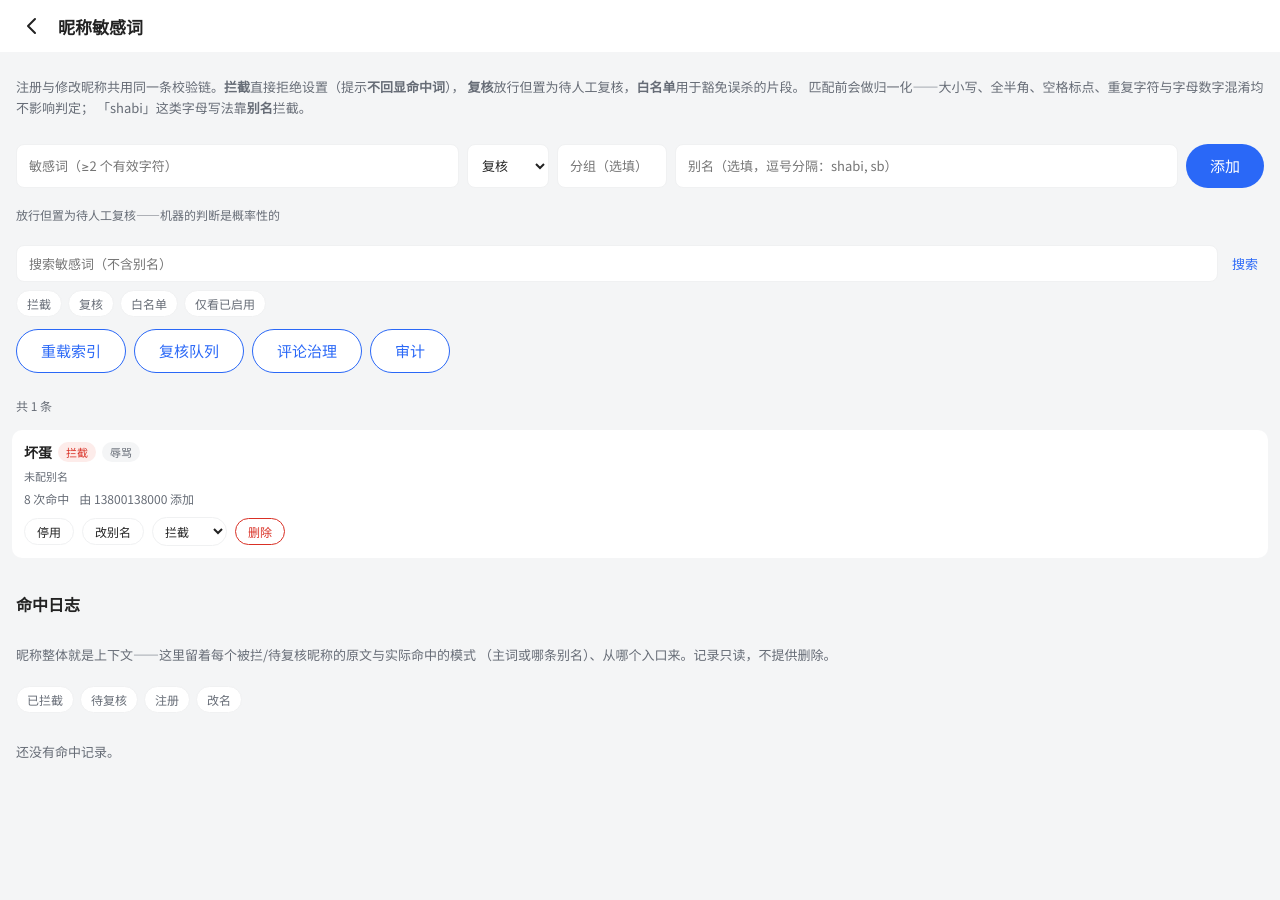
Scenario: views/AdminNicknameWords 新增与维护 › 新增成功：别名按逗号拆分、去重，就地插入并提示已生效
Type "广告哥" into the field named "敏感词" at (238, 166), box top-left (16, 144), bottom-right (459, 188)
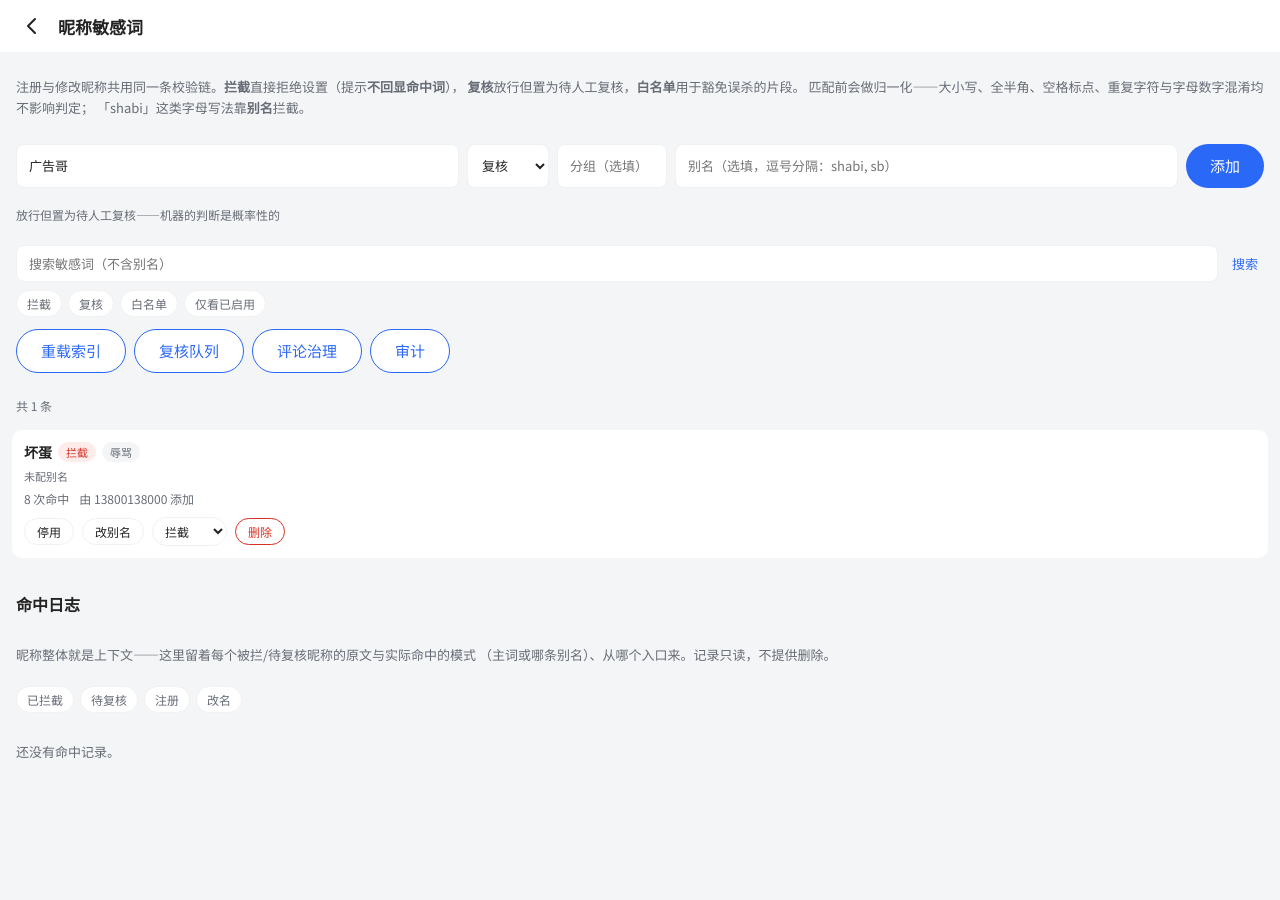
Select "复核" in the dropdown named "命中后的处理方式" at (508, 166), box top-left (467, 144), bottom-right (549, 188)
Type "广告引流" into the field named "分组" at (612, 166), box top-left (557, 144), bottom-right (667, 188)
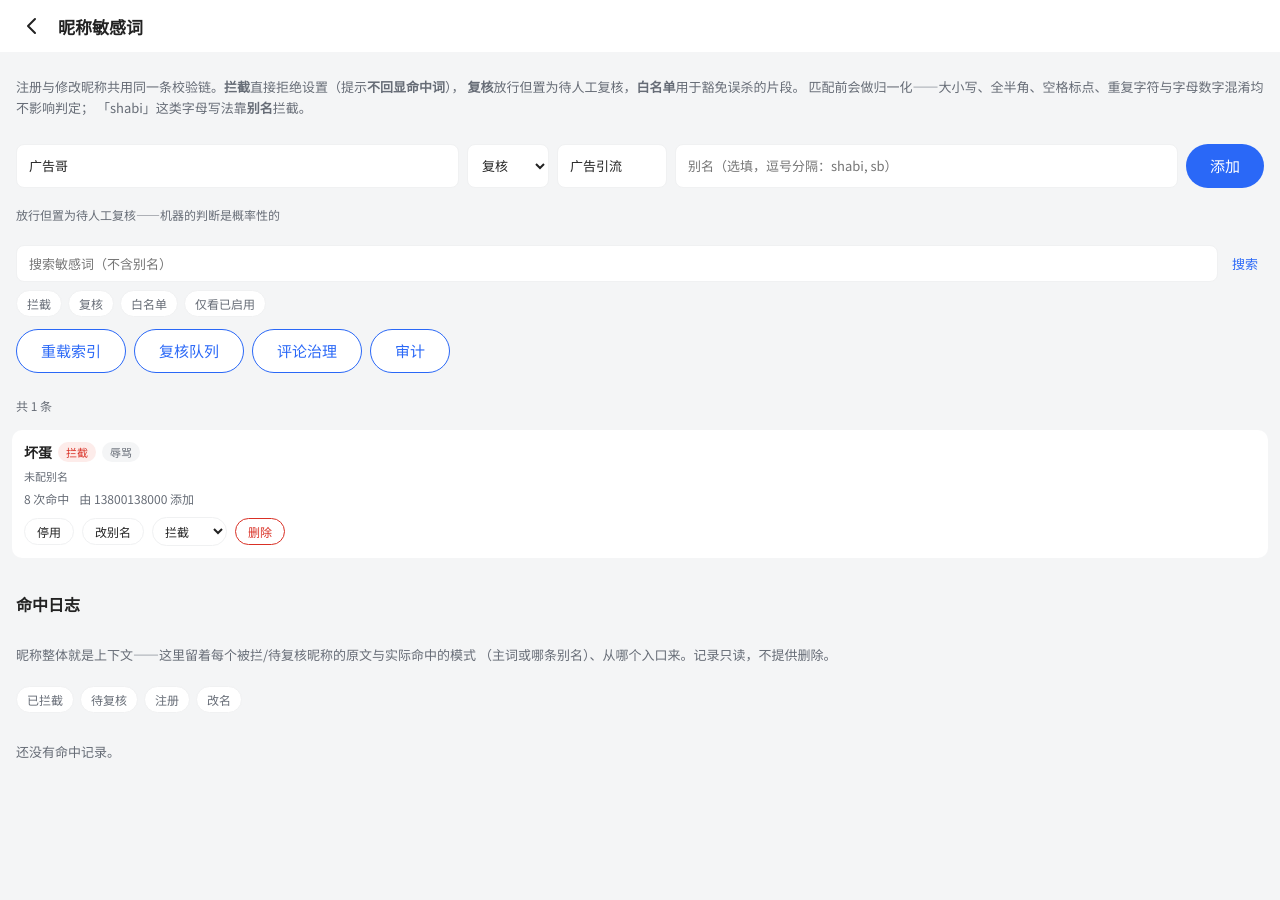
Type "adgg, adgg，广告哥哥" into the field named "别名" at (926, 166), box top-left (675, 144), bottom-right (1178, 188)
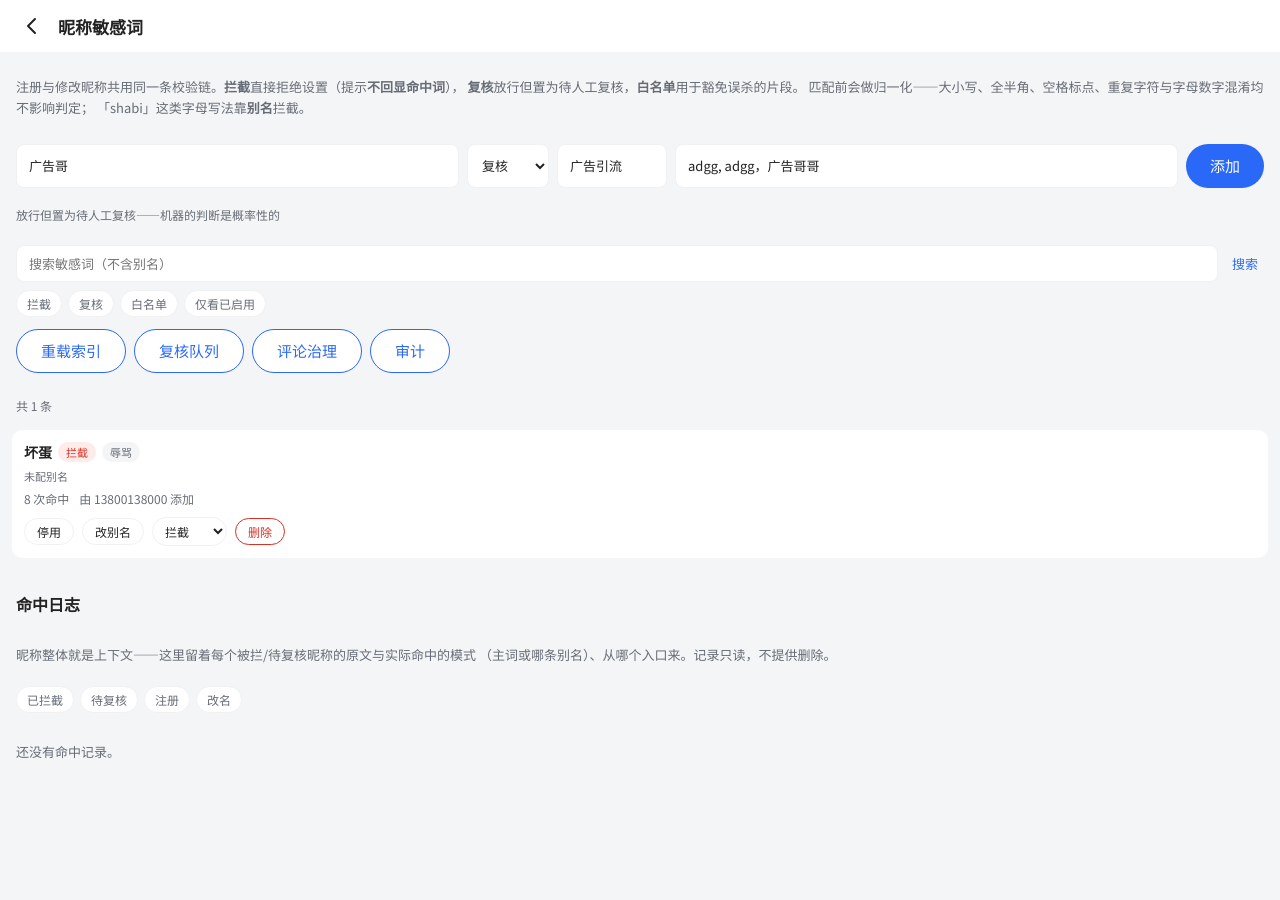
Press Enter in the field named "敏感词", box top-left (16, 144), bottom-right (459, 188)
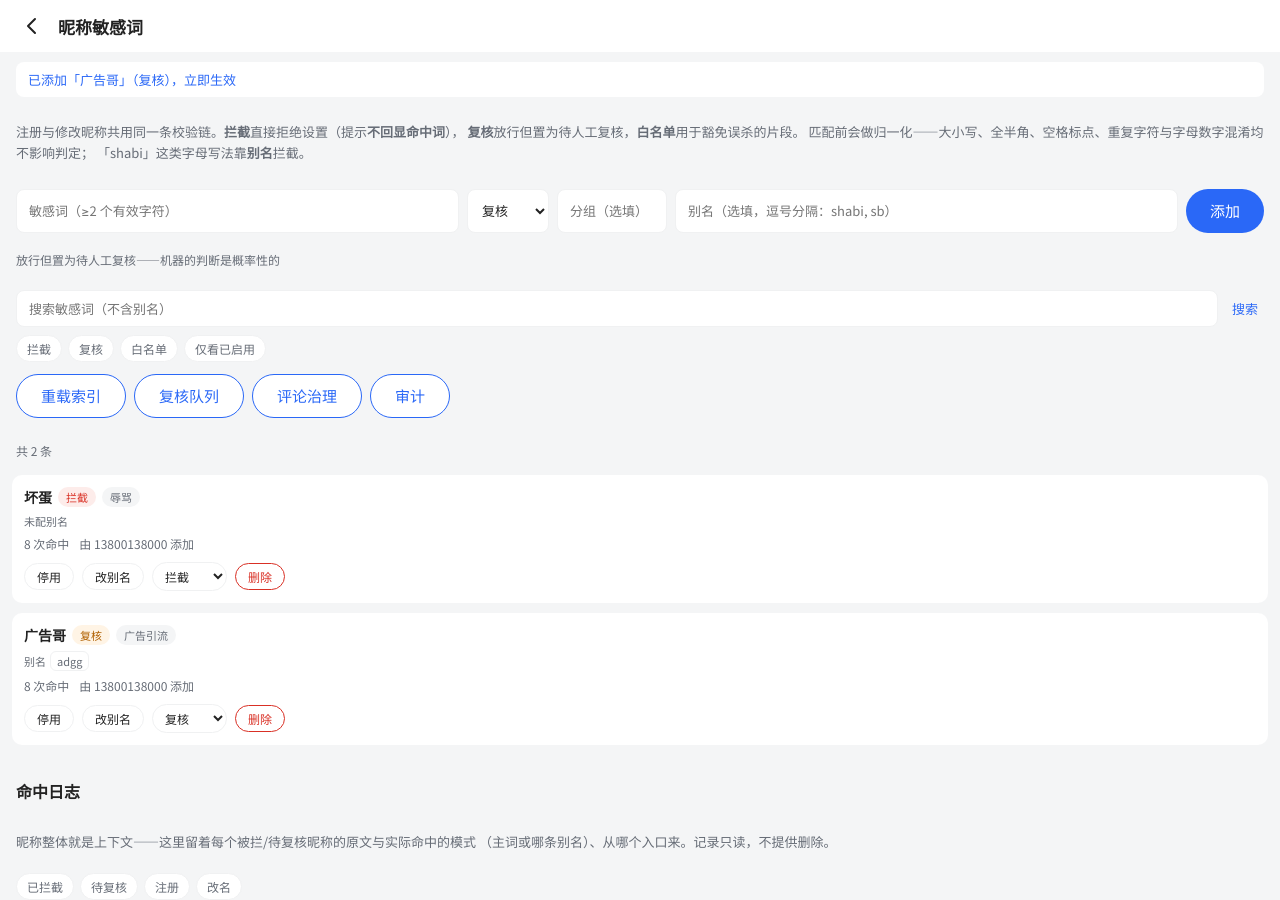
Expected: the text "已添加「广告哥」（复核），立即生效" is shown, top-left (16, 62), bottom-right (1264, 97)
Expected: the number of list items is 2, top-left (12, 475), bottom-right (1268, 603); top-left (12, 613), bottom-right (1268, 745)
Expected: the text "共 2 条" is shown, top-left (16, 442), bottom-right (52, 459)
